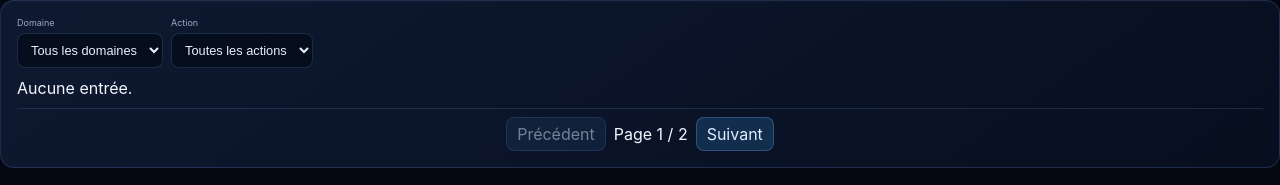
Admin panel actions › paginates the Journal using its server response
Click the button "Suivant". click: (735, 134)
box: x1=696 y1=117 x2=774 y2=151
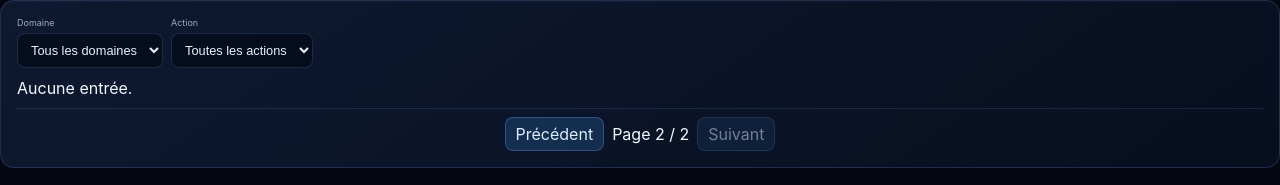
Now the text "Page 2 / 2" is shown, box x1=612 y1=124 x2=689 y2=144
